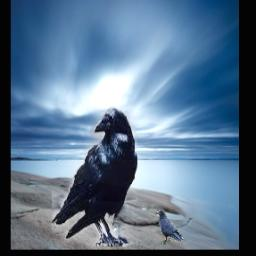Crow: (52, 107, 137, 248), (157, 211, 185, 245)
